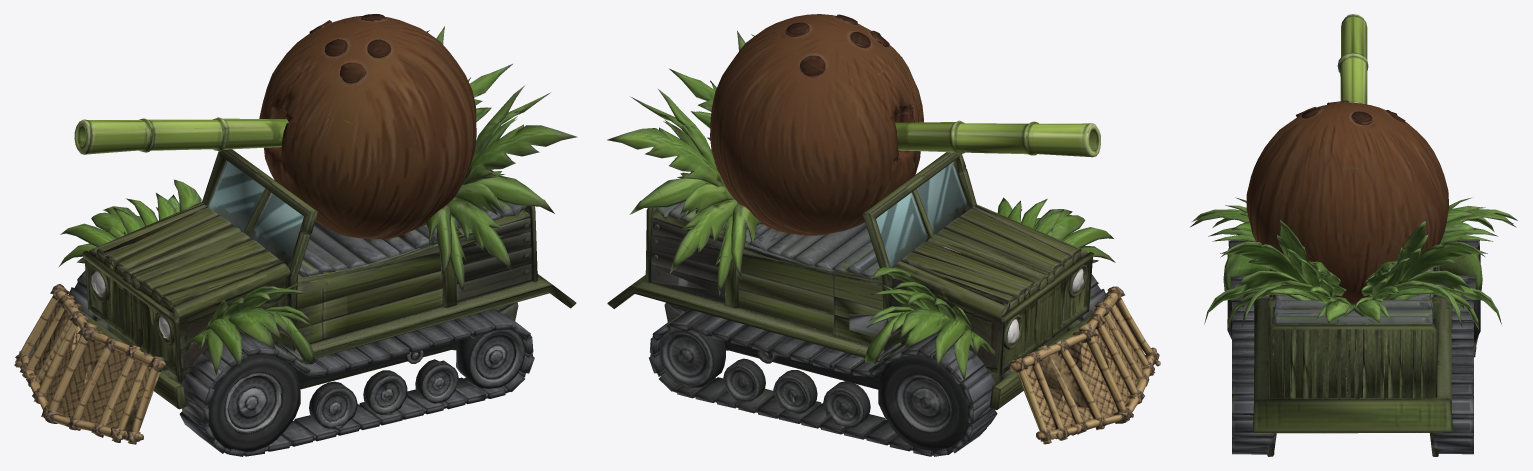
Rendered from meshy-vehicle-coconut-tank.glb.
The picture shows the model from 3 angles, left to right: view 1: azimuth 30°, elevation 25°; view 2: azimuth 150°, elevation 25°; view 3: azimuth 270°, elevation 25°; orthographic projection. The views are drawn at different scales.
Bounding box in the file's own units: 0.9575 × 0.6416 × 0.6152.
1 material, 1 textured.
